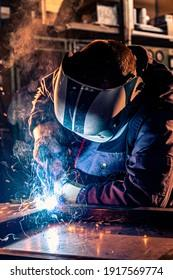gloves: (32, 123, 68, 176)
